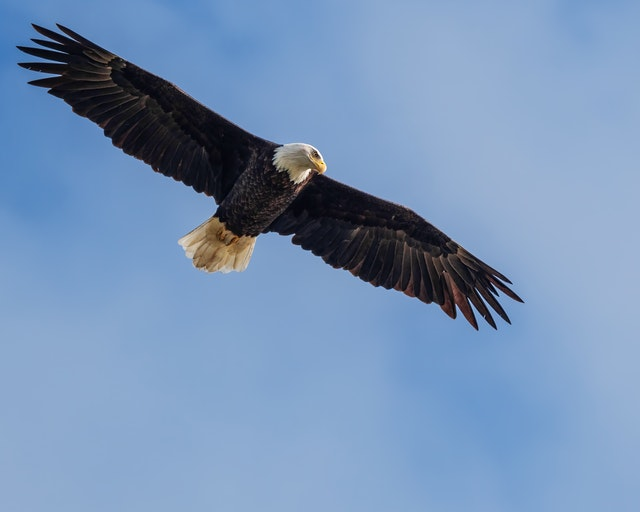bird: (15, 20, 524, 332)
